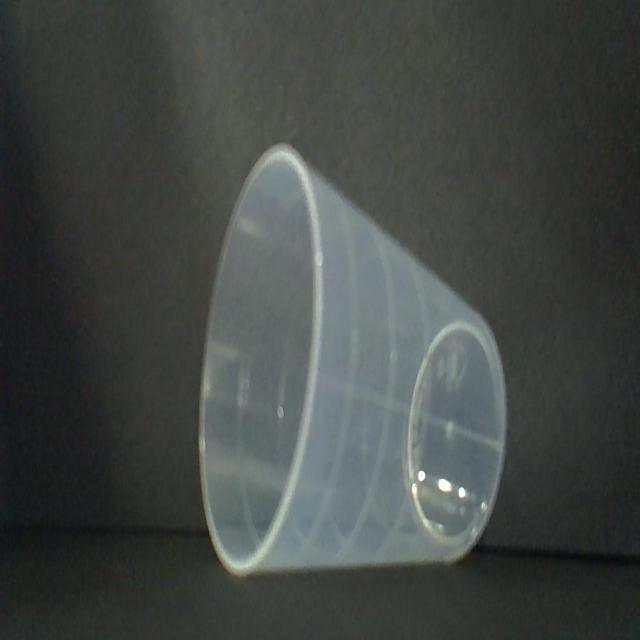cup: (195, 140, 509, 576)
